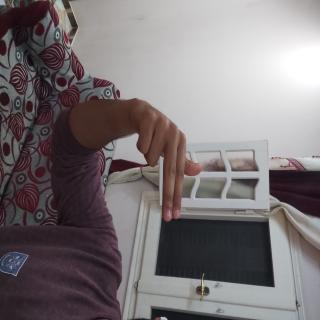GHAYN: (69, 151, 182, 254)
